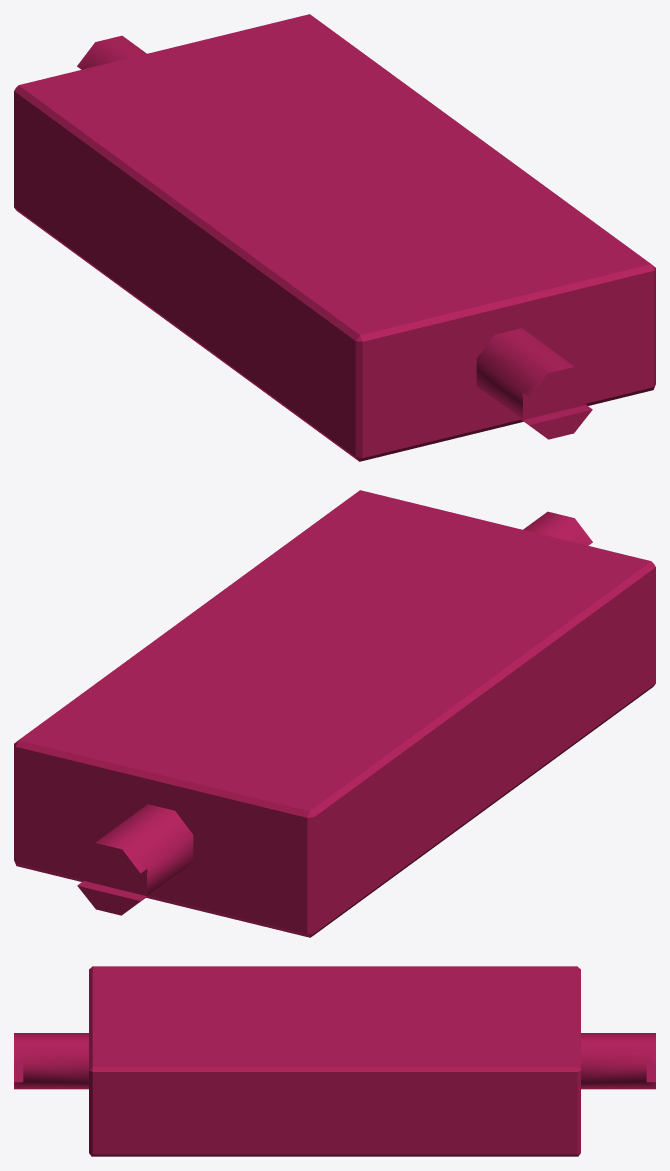
Rendered from Part_Car_Base_4X2_simple.FBX.
The picture shows the model from 3 angles, top to bottom: view 1: azimuth 30°, elevation 25°; view 2: azimuth 150°, elevation 25°; view 3: azimuth 270°, elevation 25°; orthographic projection. The views are drawn at different scales.
Parts seen in each view (by area): view 1: Part_Car_Base_4X2_simple; view 2: Part_Car_Base_4X2_simple; view 3: Part_Car_Base_4X2_simple.
Part boxes in pixels (<box>): Part_Car_Base_4X2_simple: <box>14,14,655,461</box>; Part_Car_Base_4X2_simple: <box>14,490,655,937</box>; Part_Car_Base_4X2_simple: <box>14,966,655,1156</box>.
Bounding box in the file's own units: 200 × 522 × 80.
